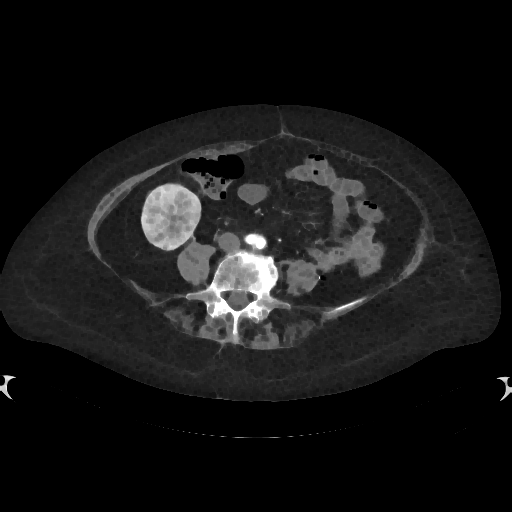Lesion: (139, 183, 202, 256)
